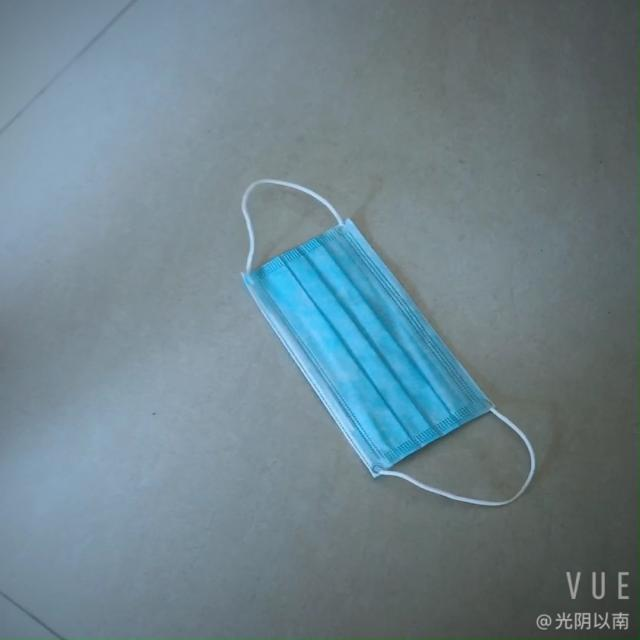face mask: (264, 216, 486, 463)
